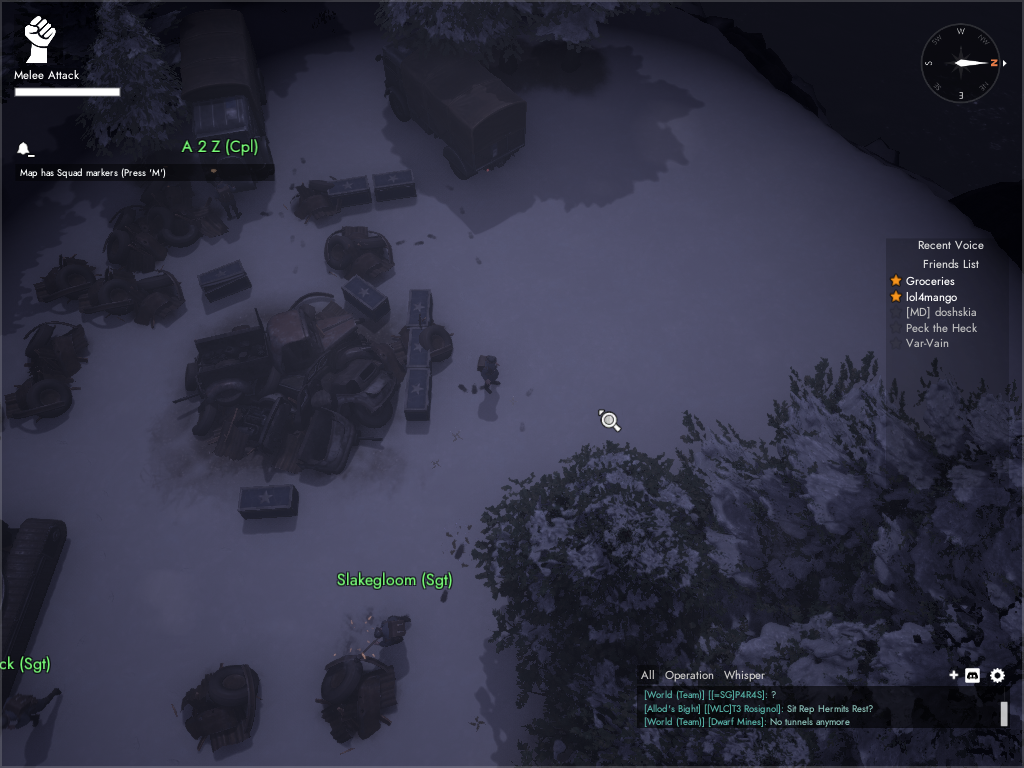crane: (1, 517, 66, 680)
player: (1, 686, 62, 729), (360, 614, 413, 655), (211, 180, 244, 221), (477, 354, 501, 394)
scrap: (311, 642, 411, 743), (171, 655, 263, 759), (2, 367, 86, 436), (101, 202, 186, 268), (151, 190, 229, 257), (30, 253, 106, 314), (324, 222, 399, 280), (19, 319, 92, 376), (125, 266, 190, 330), (80, 263, 140, 328), (286, 172, 344, 232)
scrapyard: (174, 290, 405, 475)
storage_box: (337, 272, 395, 322), (233, 480, 301, 522), (195, 256, 255, 303), (320, 173, 373, 211), (367, 167, 421, 203), (401, 364, 434, 422), (404, 324, 436, 376), (405, 284, 437, 331)
truck: (375, 29, 528, 180), (179, 12, 274, 193)
